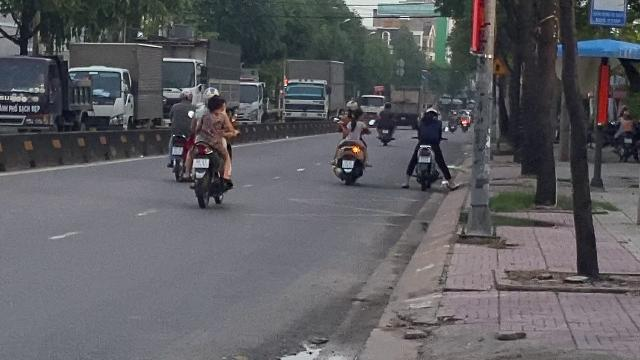helmet: (204, 86, 220, 98)
licenseplate: (192, 158, 208, 168)
motorcyclist: (188, 86, 236, 206)
nohelmet: (206, 95, 224, 112)
